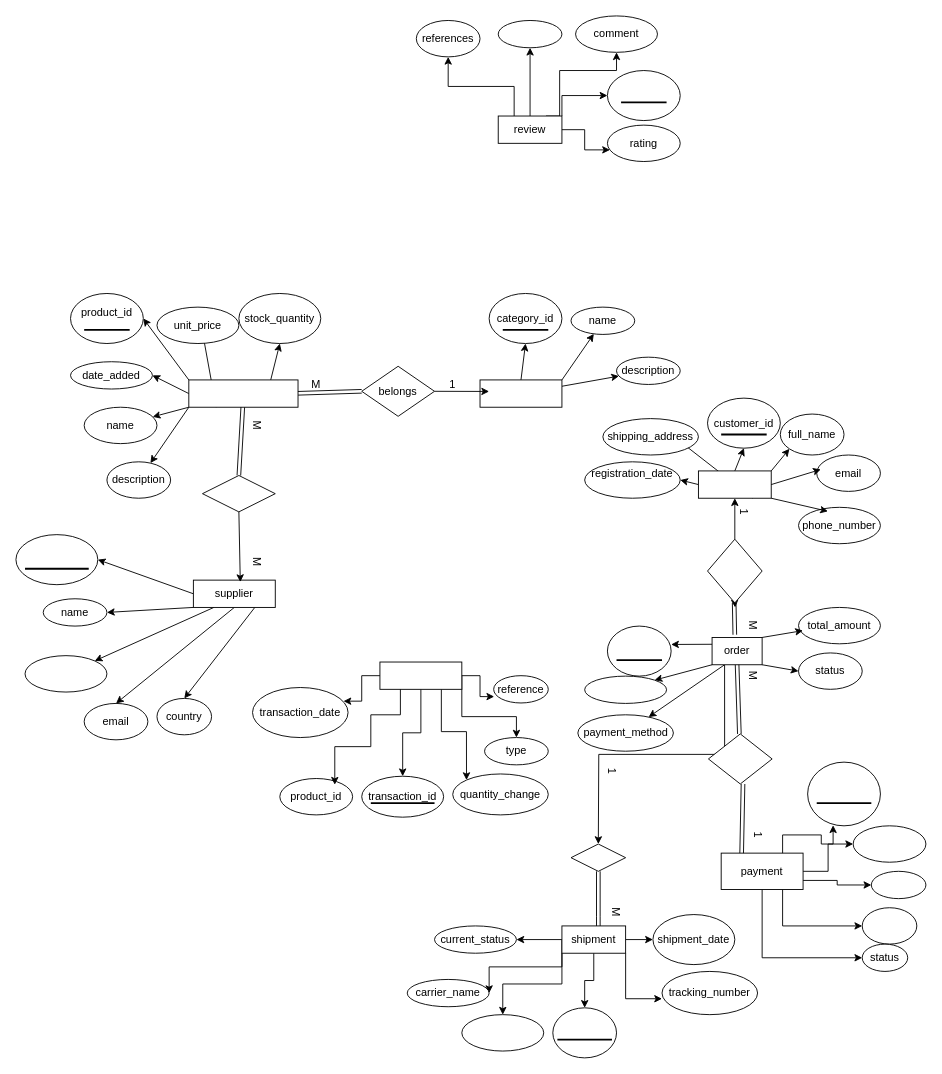
This 942x1074 diagram has some shape labels left out. The shapes that lost their labels are listed below. From the top down, each one's centre as x and y in pixels, then its label:
pixel 529 34: date
pixel 643 95: review_id
pixel 243 393: product
pixel 520 393: category
pixel 238 493: supply
pixel 734 484: customer
pixel 56 559: supplier_id
pixel 734 570: belong to
pixel 639 650: order_id
pixel 65 673: contact_number
pixel 420 675: transaction
pixel 625 689: order_date
pixel 740 758: linked to
pixel 843 793: payment_id
pixel 598 857: have
pixel 889 843: payment_date
pixel 898 884: amount
pixel 889 925: method
pixel 502 1032: delivery_date
pixel 584 1032: shipment_id
